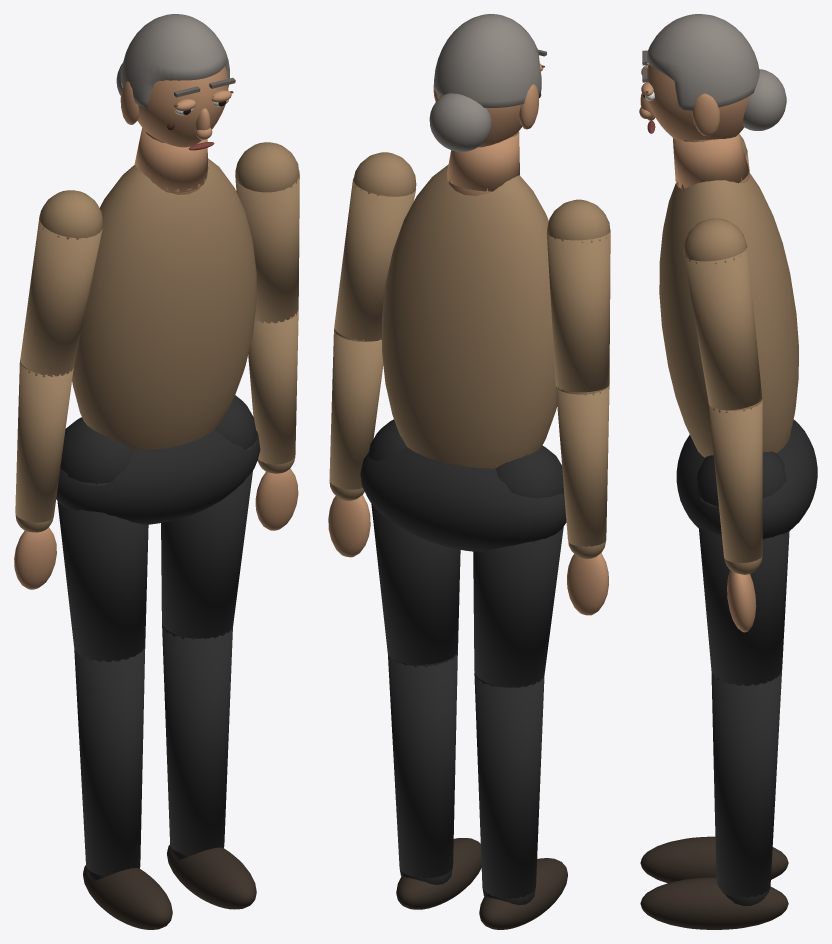
The model's file is ba-thu.glb.
3 views of the same model, side by side, from view 1: azimuth 30°, elevation 25°; view 2: azimuth 150°, elevation 25°; view 3: azimuth 270°, elevation 25° (orthographic).
Visible parts, largest first — view 1: Sphere.011, Cone.003, Cone.001, Cone, Sphere.010, Cone.002, Cone.005, Cone.006, Cone.007, Cone.008, Sphere.027, Sphere.014 (+9 smaller); view 2: Sphere.011, Sphere.010, Cone.003, Cone.001, Cone, Cone.002, Cone.005, Sphere.027, Cone.007, Cone.006, Cone.008, Cone.004 (+11 smaller); view 3: Sphere.011, Cone.003, Cone.002, Cone.007, Sphere.027, Cone.008, Sphere.010, Sphere.009, Sphere.004, Cone.004, Sphere.014, Sphere.034 (+4 smaller).
Part boxes in pixels (<box>): Sphere.011: <box>72,158,256,449</box>; Cone.003: <box>162,623,232,855</box>; Cone.001: <box>74,645,145,875</box>; Cone: <box>57,481,148,661</box>; Sphere.010: <box>56,429,260,524</box>; Cone.002: <box>161,438,257,638</box>; Cone.005: <box>20,216,102,376</box>; Cone.006: <box>15,361,73,522</box>; Cone.007: <box>235,170,299,323</box>; Cone.008: <box>248,309,298,464</box>; Sphere.027: <box>121,14,229,107</box>; Sphere.014: <box>137,66,228,147</box>; Sphere.011: <box>382,164,557,468</box>; Sphere.010: <box>360,447,566,551</box>; Cone.003: <box>388,651,457,878</box>; Cone.001: <box>474,673,544,898</box>; Cone: <box>473,527,563,687</box>; Cone.002: <box>371,503,460,664</box>; Cone.005: <box>546,230,610,392</box>; Sphere.027: <box>434,14,541,107</box>; Cone.007: <box>334,178,415,341</box>; Cone.006: <box>556,384,609,546</box>; Cone.008: <box>329,328,383,489</box>; Cone.004: <box>447,131,519,191</box>; Sphere.011: <box>659,173,798,457</box>; Cone.003: <box>711,670,781,897</box>; Cone.002: <box>699,496,789,685</box>; Cone.007: <box>684,247,762,410</box>; Sphere.027: <box>645,14,759,110</box>; Cone.008: <box>708,400,762,562</box>; Sphere.010: <box>676,419,817,539</box>; Sphere.009: <box>640,877,788,929</box>; Sphere.004: <box>640,836,788,883</box>; Cone.004: <box>673,134,749,188</box>; Sphere.014: <box>646,64,749,140</box>; Sphere.034: <box>683,218,747,264</box>.
Size of the model in its own units: 0.502 by 1.52 by 0.2766.
